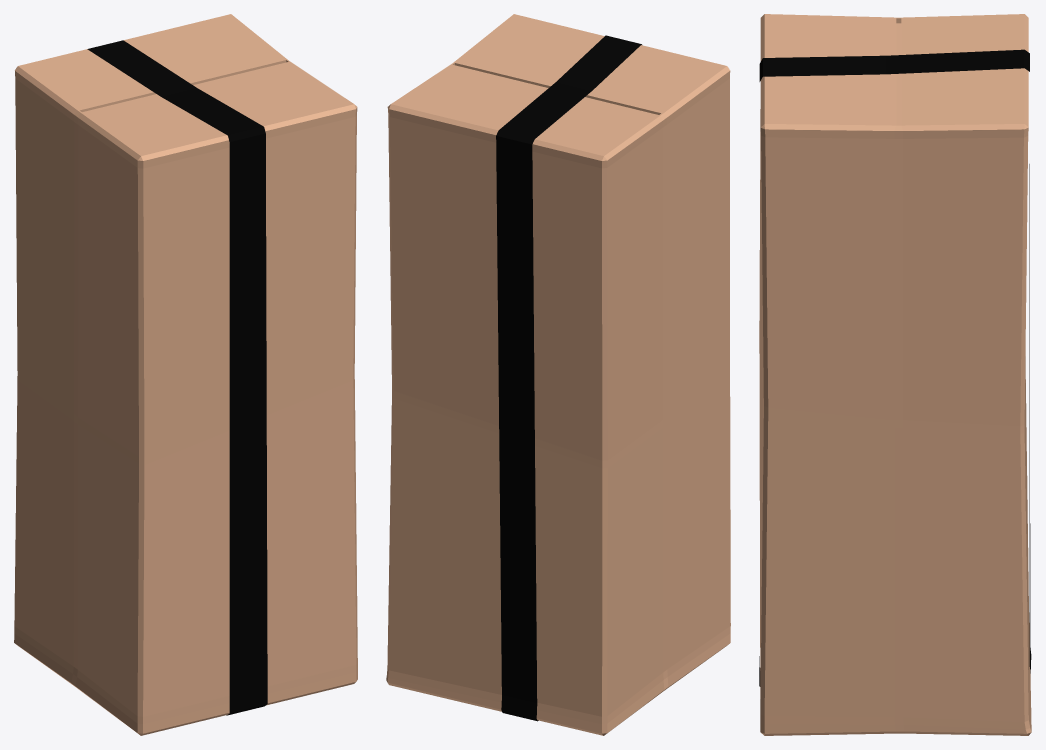
File: packagetall.fbx
3 renders of one model, left to right at view 1: azimuth 30°, elevation 25°; view 2: azimuth 150°, elevation 25°; view 3: azimuth 270°, elevation 25°, orthographic. The views are drawn at different scales.
Parts seen in each view (by area): view 1: TallPackage, TallTape; view 2: TallPackage, TallTape; view 3: TallPackage, TallTape.
Boxes of the visible parts, x1=… form: TallPackage: x1=14, y1=14, x2=357, y2=735; TallTape: x1=87, y1=40, x2=267, y2=715; TallPackage: x1=386, y1=14, x2=730, y2=735; TallTape: x1=496, y1=35, x2=641, y2=721; TallPackage: x1=759, y1=14, x2=1031, y2=735; TallTape: x1=759, y1=49, x2=1031, y2=686.
Bounding box in the file's own units: 0.1384 × 0.3509 × 0.1403.
